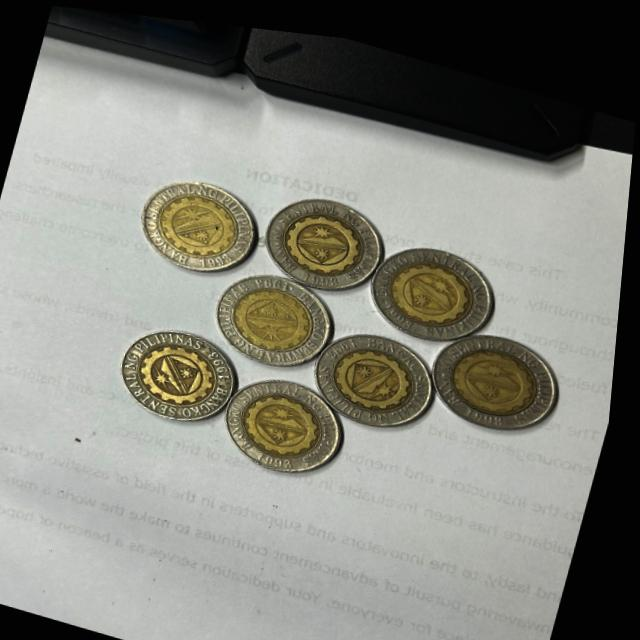10_Old_Back: (433, 310, 577, 426), (112, 313, 251, 433), (212, 362, 353, 475), (369, 227, 504, 342), (134, 165, 268, 279), (311, 315, 446, 427), (209, 259, 342, 369), (269, 186, 395, 296)
